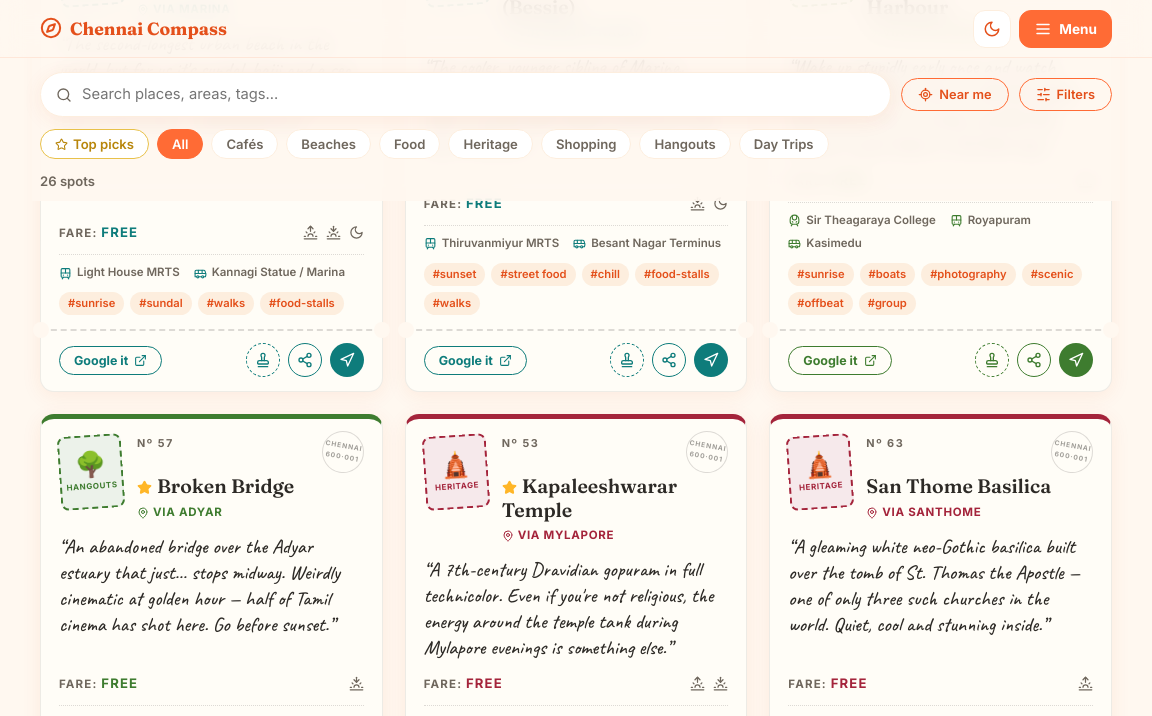
Test: passport in the app › stamps a card and shows it in the passport modal with progress
(page scrolled)
Click the button named "Stamp Marina Beach as visited" at {"x": 263, "y": 360}, box 246,343 -> 280,377
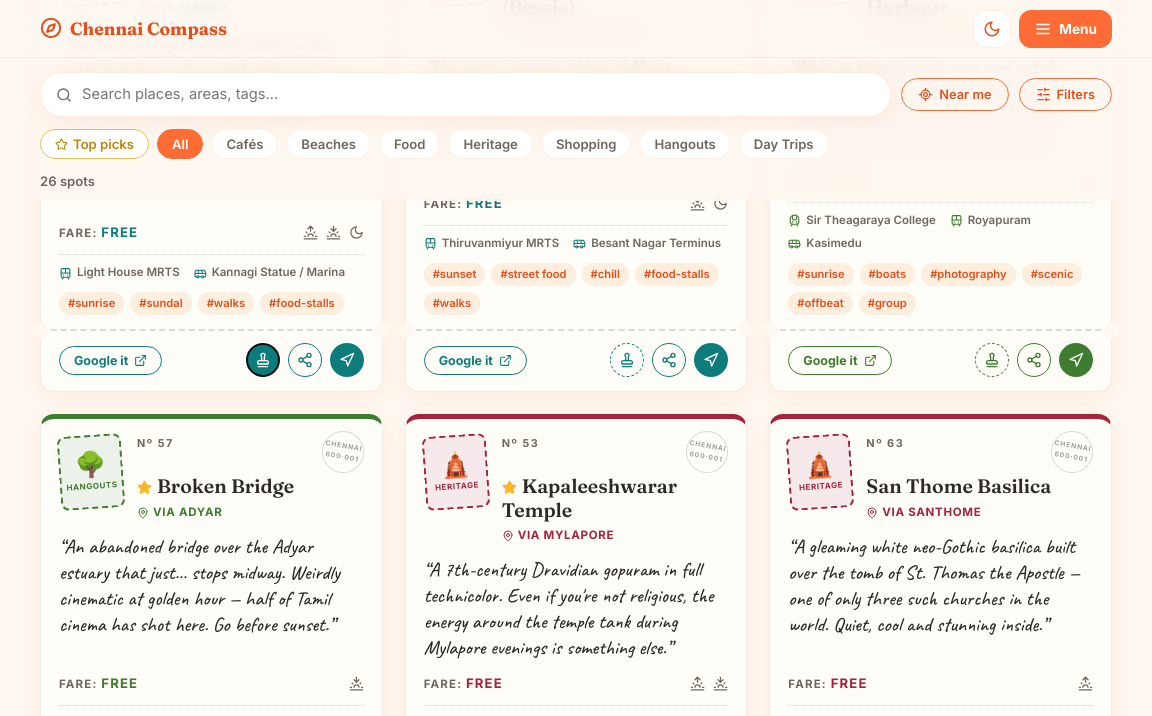
Click the button "Menu" at {"x": 1066, "y": 28}, box 1019,10 -> 1112,48
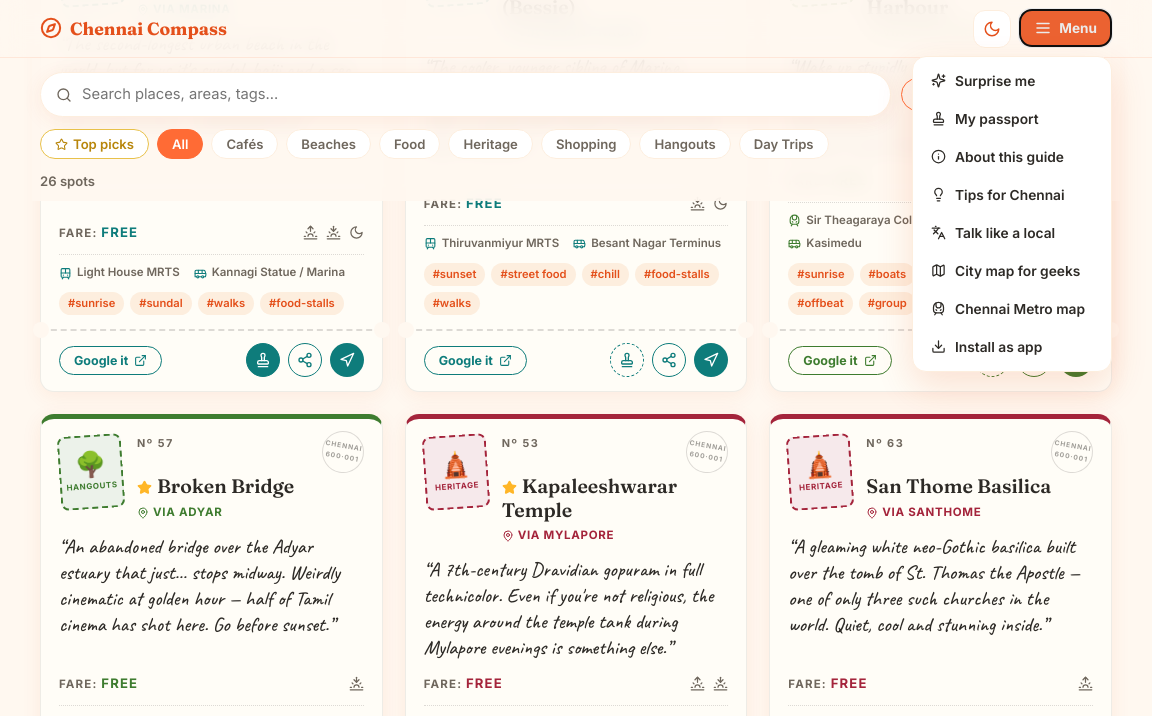
Click the menu item "My passport" at {"x": 1012, "y": 118}, box 919,100 -> 1105,136
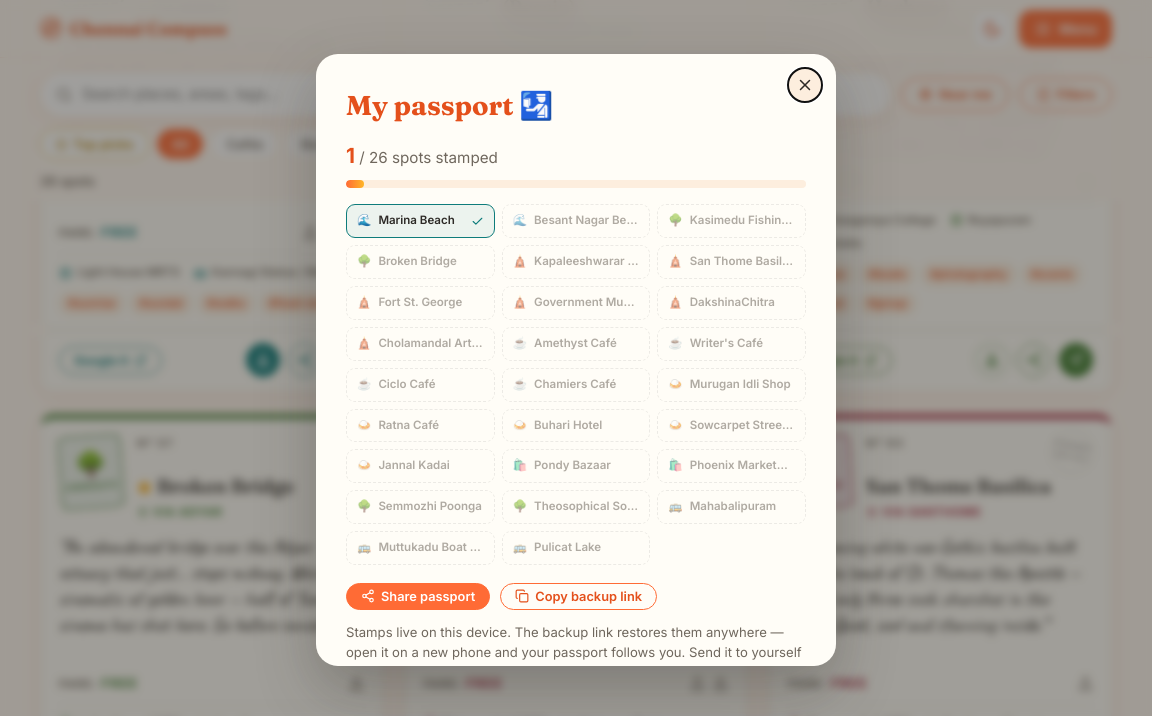
Expected: the button "Copy backup link" is shown, 500,583 -> 657,610
Expected: the button "Share passport" is shown, 346,583 -> 490,610
